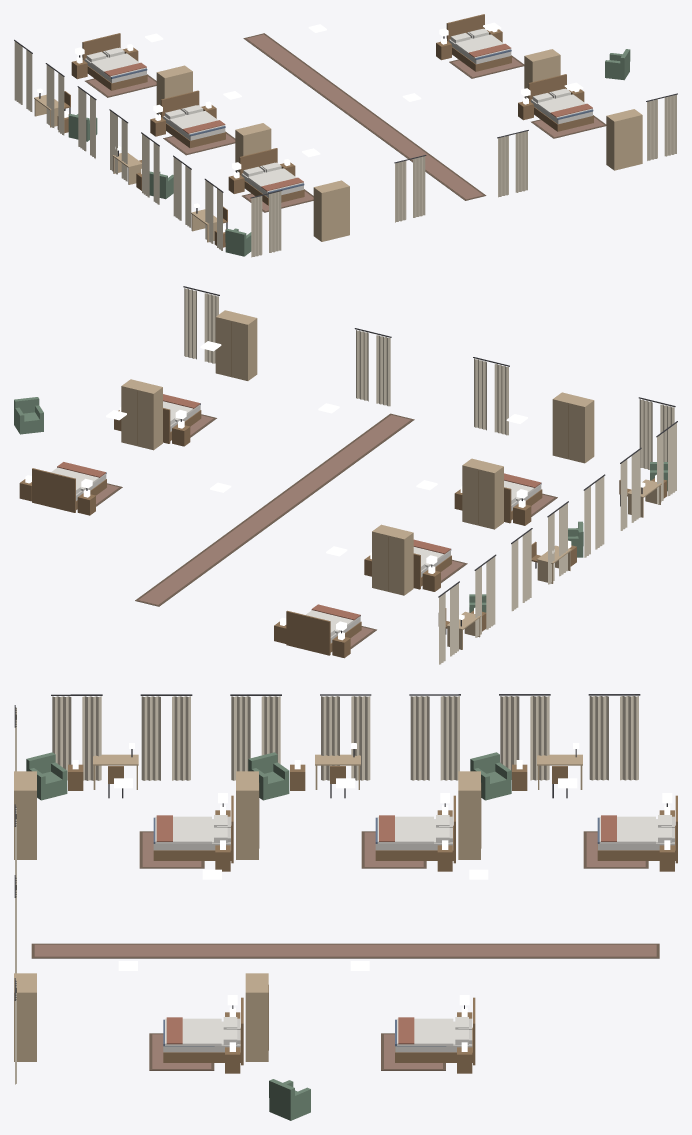
Rendered from fine-s1.glb.
3 renders of one model, top to bottom at view 1: azimuth 30°, elevation 25°; view 2: azimuth 150°, elevation 25°; view 3: azimuth 270°, elevation 25°, orthographic. The views are drawn at different scales.
Parts seen in each view (by area): view 1: soft-s1, dresser.001, dresser.004, bed-frame.002, bed-frame.003, bed-frame.000, bed-frame.001, bed-frame.004, dresser.000, dresser.002, dresser.003, lounge-chair.000 (+6 smaller); view 2: soft-s1, dresser.004, dresser.001, dresser.002, dresser.003, dresser.000, bed-frame.002, bed-frame.000, lounge-chair.000, writing-desk.002, bed-frame.003, bed-frame.004 (+1 smaller); view 3: soft-s1, dresser.000, dresser.002, dresser.003, dresser.004, dresser.001, bed-frame.004, bed-frame.003, bed-frame.000, bed-frame.001, bed-frame.002, lounge-chair.000 (+6 smaller).
Boxes of the visible parts, x1,y1,x2,y2 form: soft-s1: (14, 28, 677, 257); dresser.001: (606, 109, 642, 170); dresser.004: (313, 180, 349, 241); bed-frame.002: (82, 33, 147, 90); bed-frame.003: (161, 90, 225, 148); bed-frame.000: (446, 14, 511, 71); bed-frame.001: (528, 74, 593, 131); bed-frame.004: (239, 148, 304, 205); dresser.000: (524, 49, 560, 98); dresser.002: (156, 65, 192, 114); dresser.003: (235, 123, 271, 171); lounge-chair.000: (605, 49, 630, 80); soft-s1: (51, 286, 677, 664); dresser.004: (552, 392, 594, 463); dresser.001: (215, 310, 257, 380); dresser.002: (372, 524, 413, 595); dresser.003: (462, 458, 503, 529); dresser.000: (121, 379, 162, 450); bed-frame.002: (286, 610, 361, 655); bed-frame.000: (32, 468, 106, 512); lounge-chair.000: (14, 397, 43, 434); writing-desk.002: (627, 479, 661, 517); bed-frame.003: (413, 549, 451, 589); bed-frame.004: (504, 483, 542, 523); soft-s1: (14, 694, 673, 1084); dresser.000: (245, 973, 268, 1061); dresser.002: (458, 771, 481, 859); dresser.003: (236, 771, 259, 859); dresser.004: (14, 771, 36, 859); dresser.001: (14, 973, 36, 1061); bed-frame.004: (153, 795, 233, 863); bed-frame.003: (375, 795, 455, 863); bed-frame.000: (395, 997, 475, 1065); bed-frame.001: (163, 997, 243, 1065); bed-frame.002: (597, 795, 677, 863); lounge-chair.000: (269, 1079, 310, 1120).
Size of the model in its own units: 21.06 by 2.51 by 17.36.
